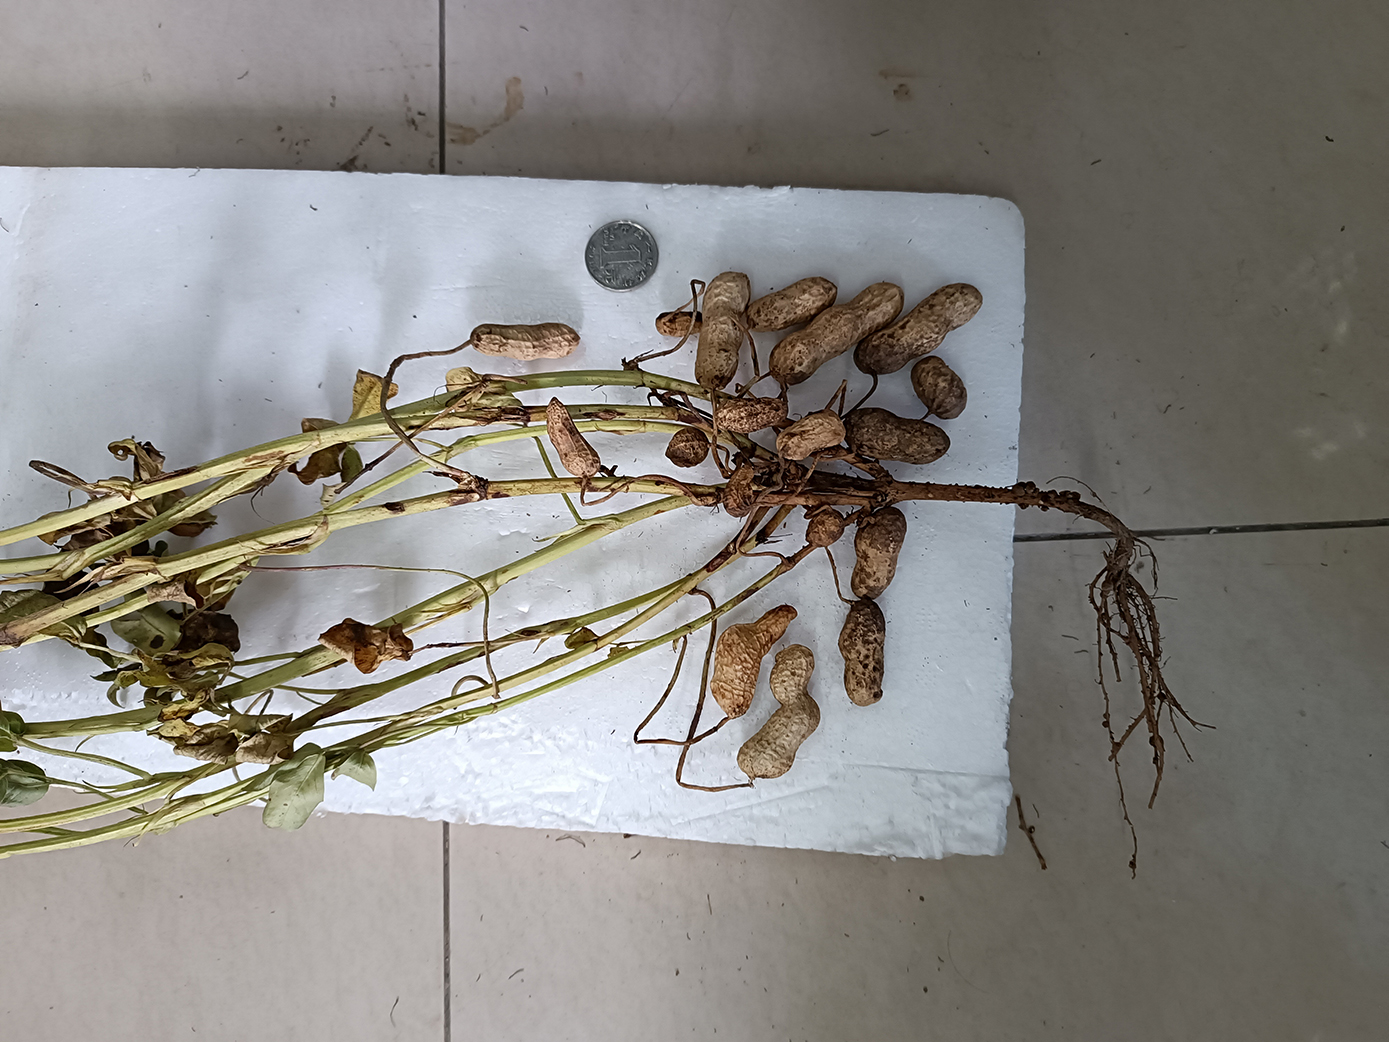h: (771, 283, 901, 385), (855, 283, 982, 375), (738, 645, 819, 778), (709, 603, 797, 720), (695, 273, 750, 391), (848, 507, 907, 600), (545, 395, 602, 481), (746, 279, 835, 331), (470, 322, 580, 360), (776, 410, 844, 461), (711, 400, 791, 433), (722, 463, 759, 518), (806, 510, 844, 547), (653, 312, 702, 336)
l: (844, 407, 951, 465), (837, 601, 887, 706), (908, 356, 968, 422), (665, 427, 709, 468)
